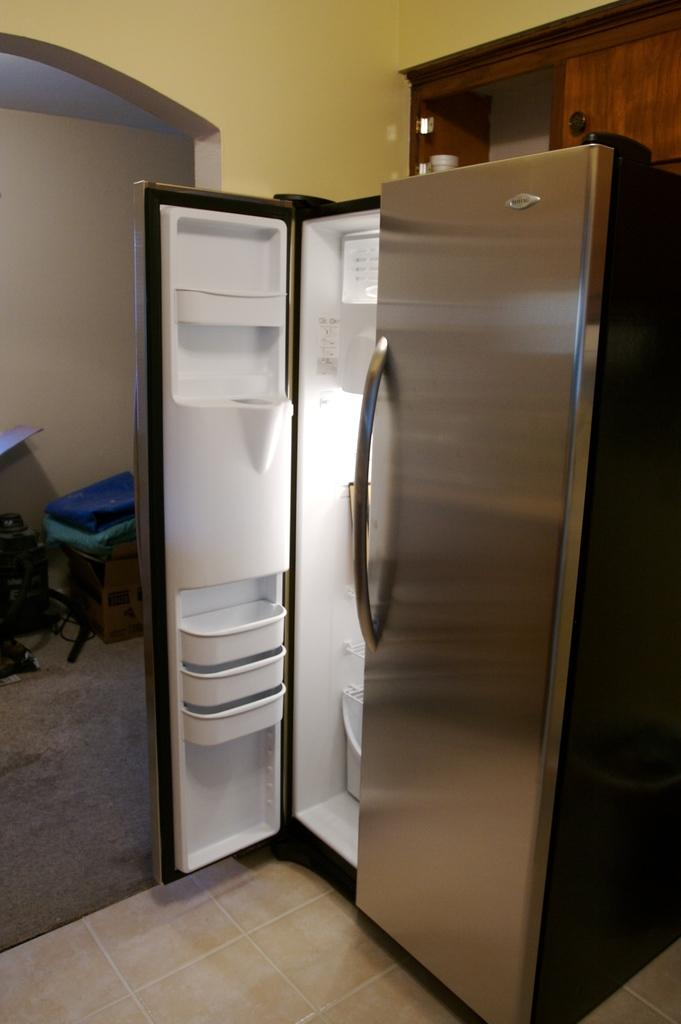cabinet_door: (566, 58, 654, 140)
handle: (350, 353, 396, 657), (569, 101, 583, 144)
